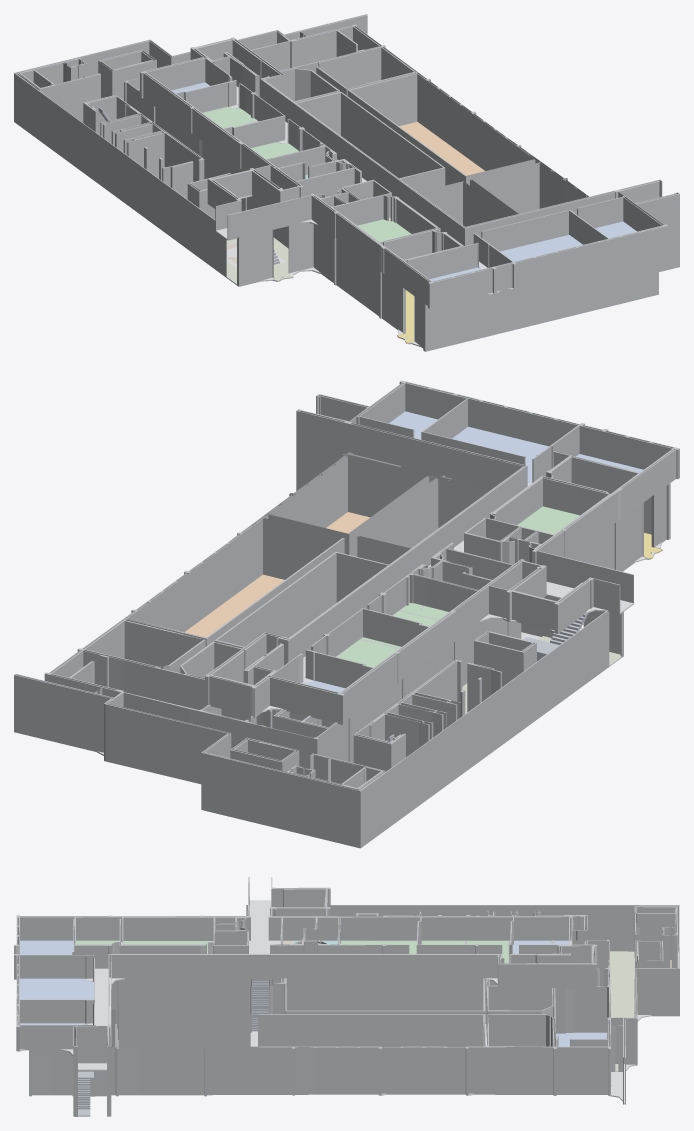
File: BlocoD.glb
3 views of the same model, one above another, from view 1: azimuth 30°, elevation 25°; view 2: azimuth 150°, elevation 25°; view 3: azimuth 270°, elevation 25° (orthographic). The views are drawn at different scales.
Parts seen in each view (by area): view 1: D0 — Paredes, D2 — Paredes, D0 — Oficina de Usinagem S1, D2 — Aulas Gerais 2, D — Escada 10 — Paredes, D2 — Lab. CAD/CAM, D0 — Área externa, D2 — Lab. Informática 14D; view 2: D0 — Paredes, D2 — Paredes, D0 — Oficina de Usinagem S1, D2 — Aulas Gerais 2, D — Escada 10 — Paredes, D2 — Lab. CAD/CAM, D2 — Lab. Informática 14D, D2 — Circulação, D — Escada 6, D2 — Lab. Hidráulica e Pneumática; view 3: D0 — Paredes, D2 — Paredes, D2 — Circulação, D0 — Área externa, D2 — Aulas Gerais 2, D — Escada 10 — Paredes, D2 — Desenho Técnico, D — Escada 10, D — Escada 8, D0 — Circulação, D2 — Lab. CAD/CAM, D0 — Civil FIC (+1 smaller).
Part boxes in pixels (x1,y1,x2,y2): D0 — Paredes: (14,14,658,351); D2 — Paredes: (140,37,679,308); D0 — Oficina de Usinagem S1: (399,121,484,175); D2 — Aulas Gerais 2: (500,235,582,261); D — Escada 10 — Paredes: (659,219,679,271); D2 — Lab. CAD/CAM: (202,106,257,128); D0 — Área externa: (227,237,293,283); D2 — Lab. Informática 14D: (358,219,410,241); D0 — Paredes: (14,452,670,848); D2 — Paredes: (205,380,679,724); D0 — Oficina de Usinagem S1: (185,574,284,637); D2 — Aulas Gerais 2: (452,426,548,482); D — Escada 10 — Paredes: (296,440,347,490); D2 — Lab. CAD/CAM: (336,637,401,667); D2 — Lab. Informática 14D: (517,506,579,534); D2 — Circulação: (262,482,633,712); D — Escada 6: (523,613,588,661); D2 — Lab. Hidráulica e Pneumática: (393,603,448,626); D0 — Paredes: (29,905,679,1104); D2 — Paredes: (14,877,597,1070); D2 — Circulação: (19,900,571,1070); D0 — Área externa: (609,951,678,1017); D2 — Aulas Gerais 2: (19,978,93,999); D — Escada 10 — Paredes: (72,1050,111,1116); D2 — Desenho Técnico: (20,940,73,954); D — Escada 10: (78,1070,106,1116); D — Escada 8: (252,979,268,1031); D0 — Circulação: (115,1014,651,1104); D2 — Lab. CAD/CAM: (422,940,509,963); D0 — Civil FIC: (556,1032,607,1046).
Bounding box in the file's own units: 405 × 78.2 × 671.
